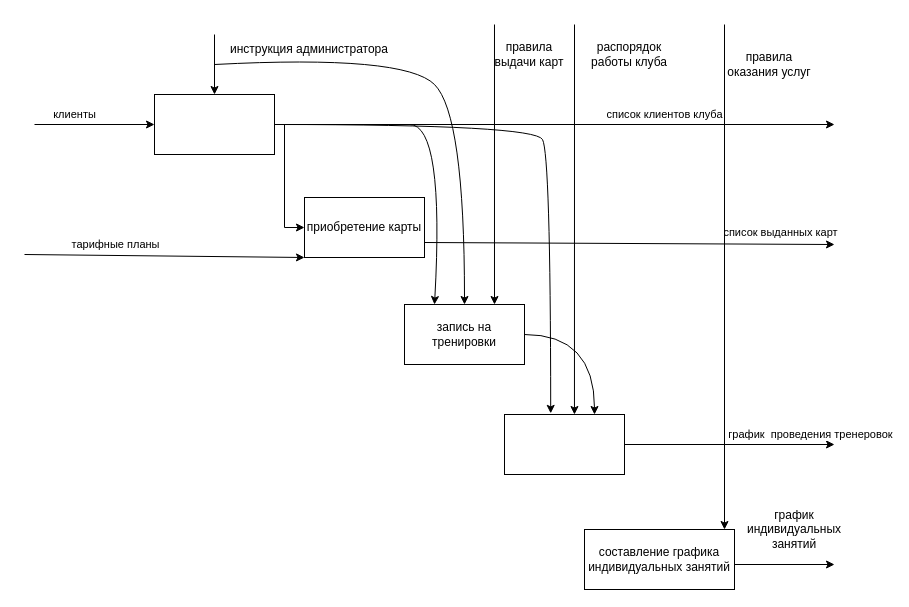
Image size: 909x607. Some labels were removed from this diagram. Each missing label, with the box of its shape:
составление графика занятий: (504, 414, 624, 474)
учет клиента: (154, 94, 274, 154)
